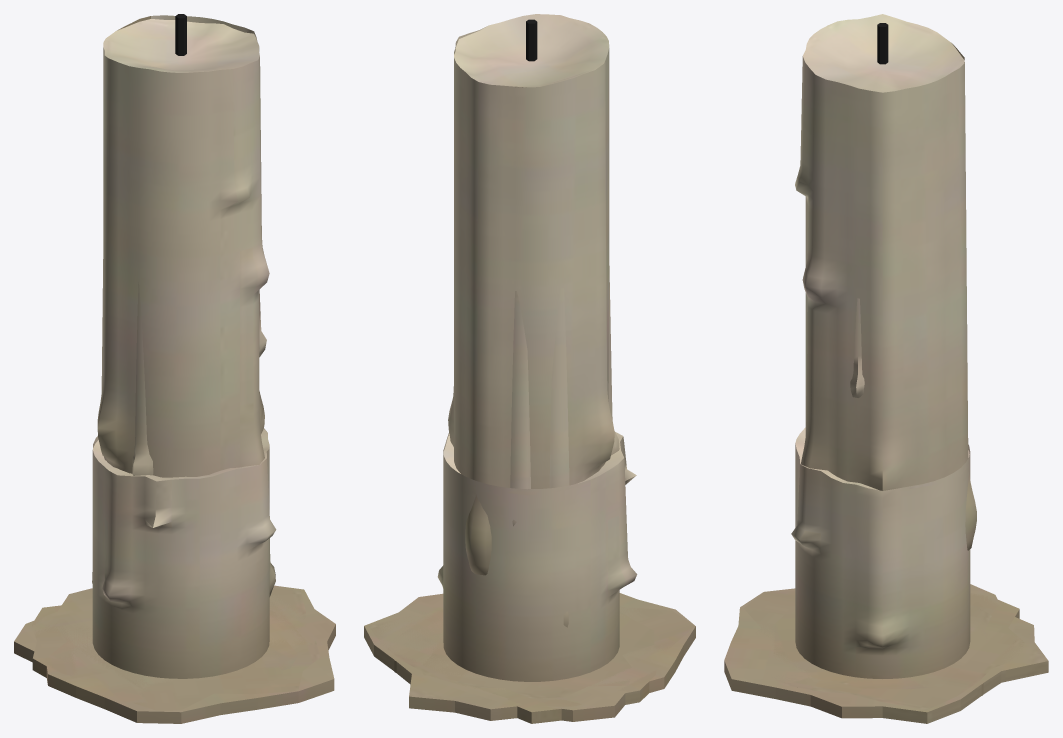
File: candles.glb
3 views of the same model, side by side, from view 1: azimuth 30°, elevation 25°; view 2: azimuth 150°, elevation 25°; view 3: azimuth 270°, elevation 25° (orthographic).
Parts seen in each view (by area): view 1: candle_tall, candle_short, candle_mid; view 2: candle_tall, candle_short, candle_mid; view 3: candle_tall, candle_short, candle_mid.
Boxes of the visible parts, x1,y1,x2,y2 form: candle_tall: (49, 15, 297, 689); candle_short: (14, 428, 335, 723); candle_mid: (32, 259, 320, 710); candle_tall: (394, 14, 654, 698); candle_short: (364, 432, 695, 721); candle_mid: (369, 266, 694, 723); candle_tall: (771, 14, 993, 695); candle_short: (724, 427, 1048, 723); candle_mid: (743, 298, 1024, 710).
Bounding box in the file's own units: 0.1236 × 0.27 × 0.1262.
4 materials, 3 textured.
